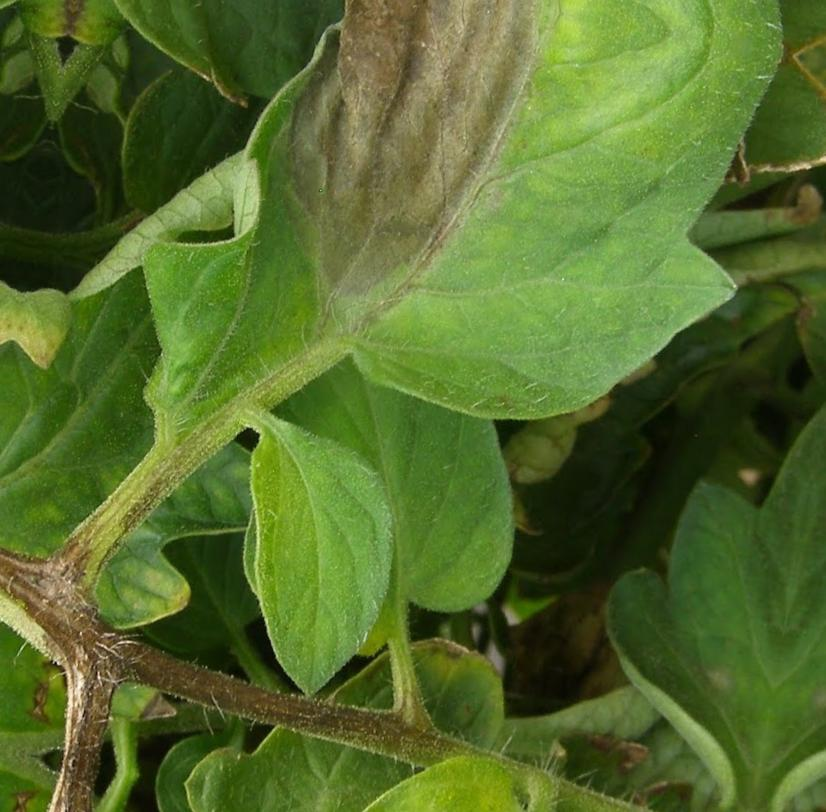Tomato mold leaf: (126, 0, 796, 481), (190, 399, 429, 717)
